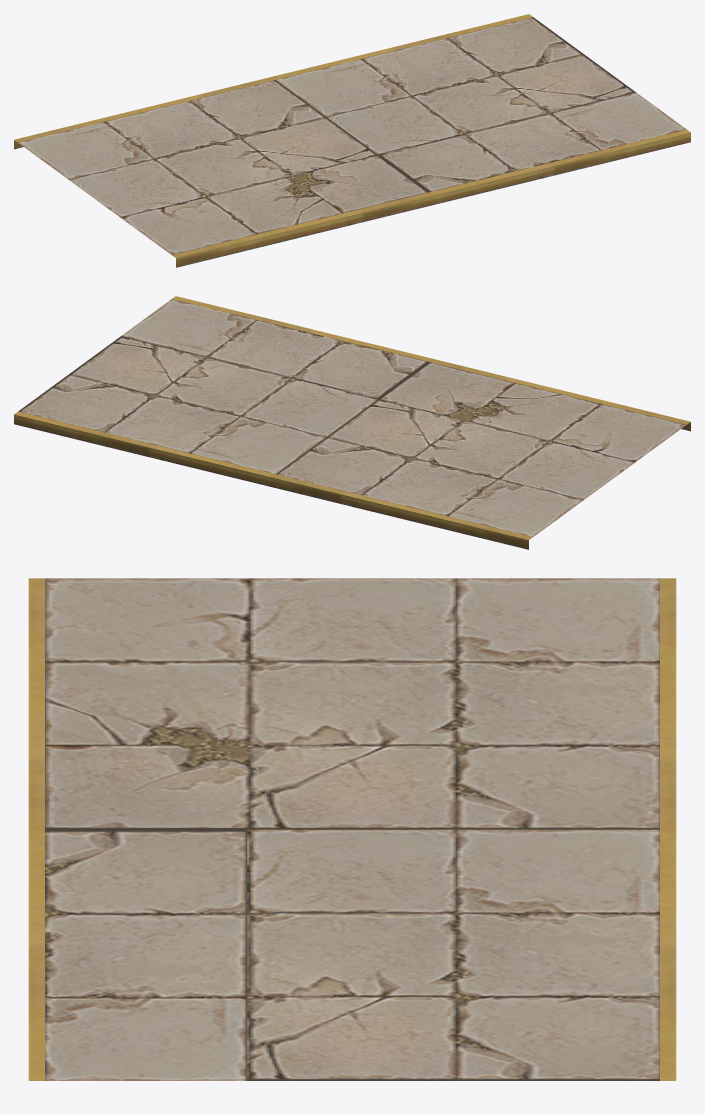
The model's file is Pavement_Top_LV001.FBX.
3 views of the same model, one above another, from view 1: azimuth 30°, elevation 25°; view 2: azimuth 150°, elevation 25°; view 3: azimuth 270°, elevation 25° (orthographic). The views are drawn at different scales.
Visible parts, largest first — view 1: Pavement05_Terrian_LV001; view 2: Pavement05_Terrian_LV001; view 3: Pavement05_Terrian_LV001.
Part boxes in pixels (<box>): Pavement05_Terrian_LV001: <box>14,14,690,267</box>; Pavement05_Terrian_LV001: <box>14,296,690,549</box>; Pavement05_Terrian_LV001: <box>28,578,676,1080</box>.
Size of the model in its own units: 974 by 17.63 by 530.
